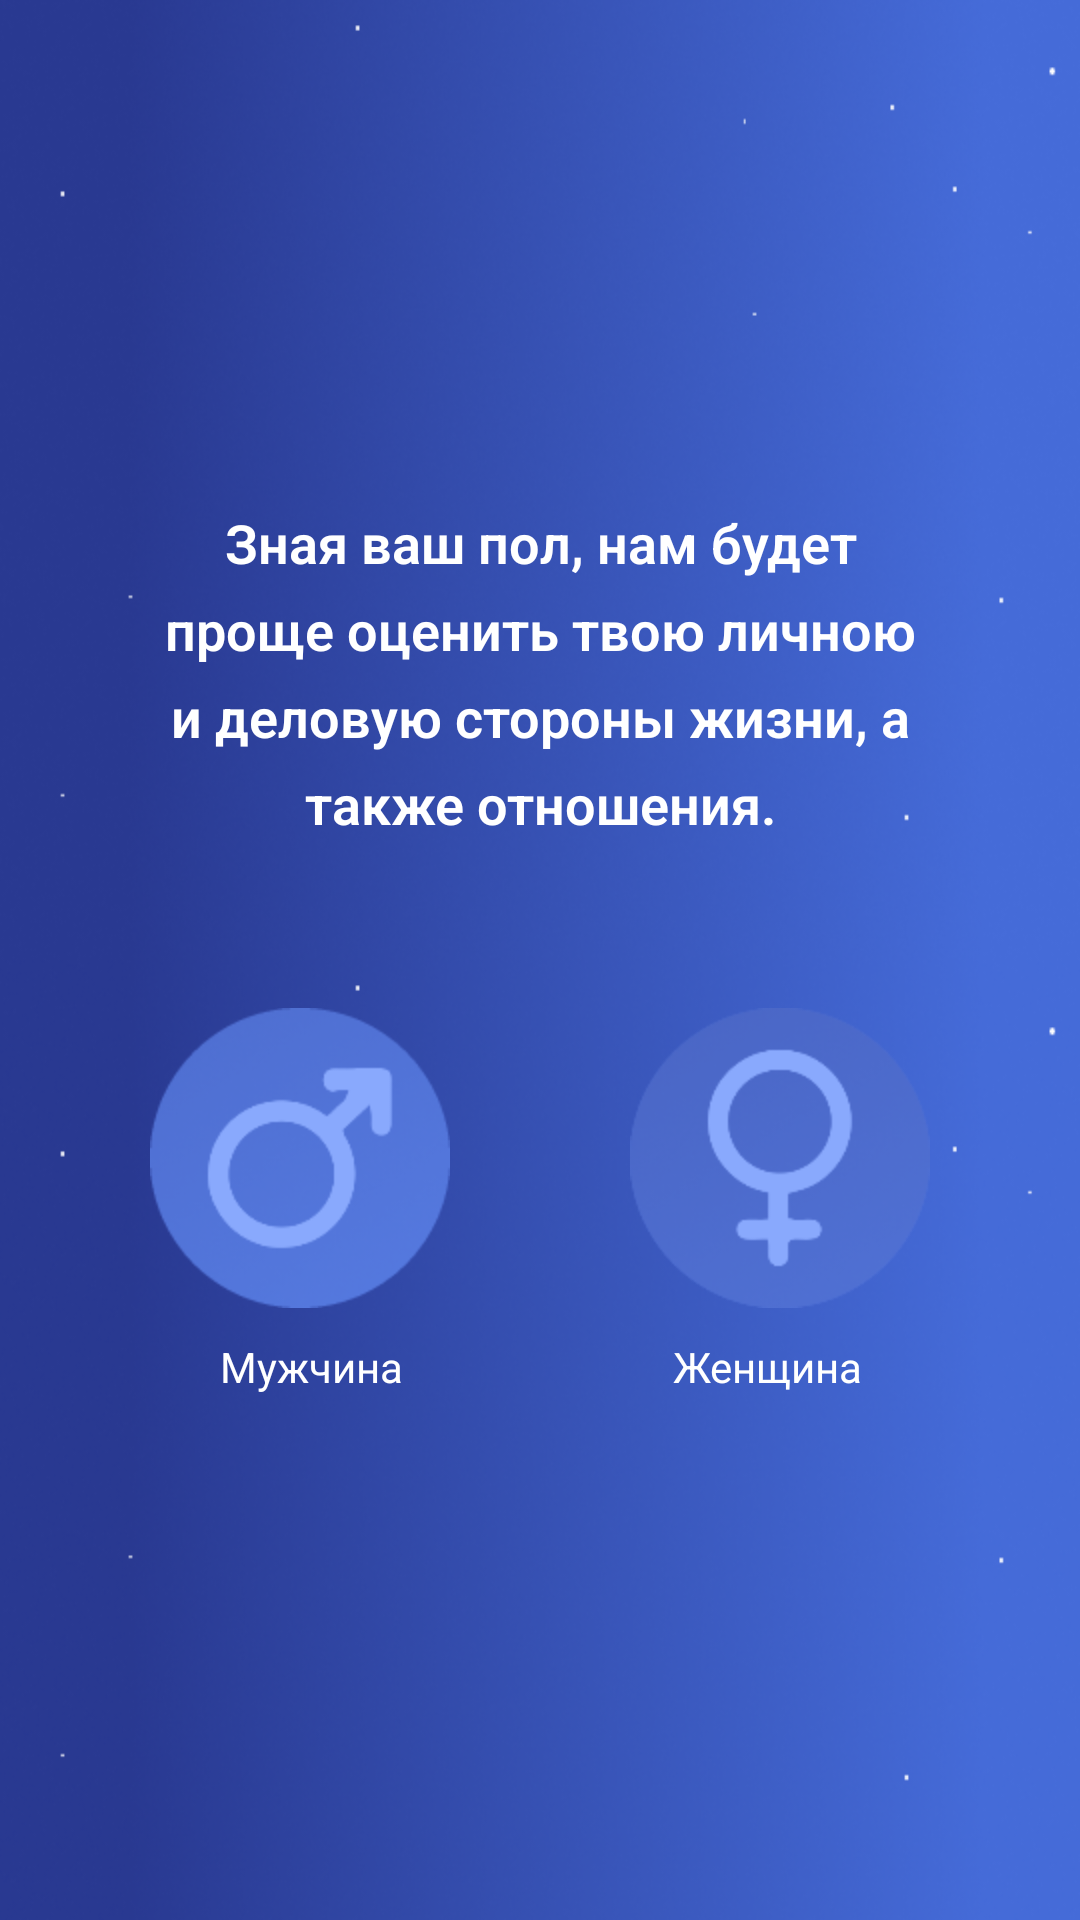

Point at icon controls on the screen. Image size 1080w x 1920h, points as (x,y).
girl: (780,1158)
